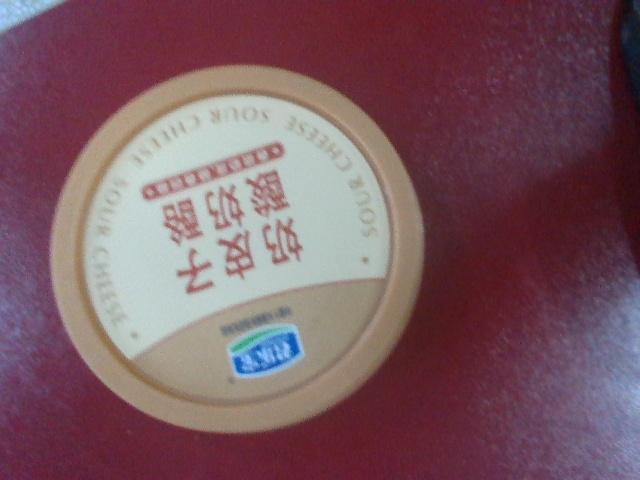lid: (38, 59, 435, 438)
